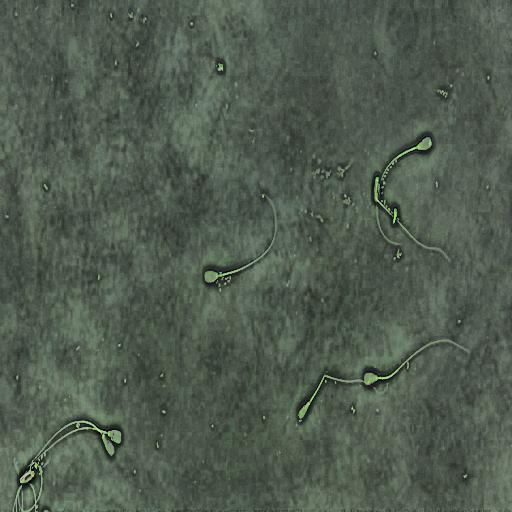dirt-particles: (215, 60, 225, 75), (392, 205, 399, 226)
folded-tail: (375, 178, 452, 263), (310, 375, 389, 401), (17, 460, 43, 512), (29, 462, 42, 503), (18, 483, 36, 512), (28, 465, 41, 498)
normal: (199, 186, 281, 289), (370, 172, 455, 268), (375, 132, 437, 249), (362, 335, 474, 388), (295, 369, 390, 424), (25, 416, 117, 468), (31, 423, 126, 467)
